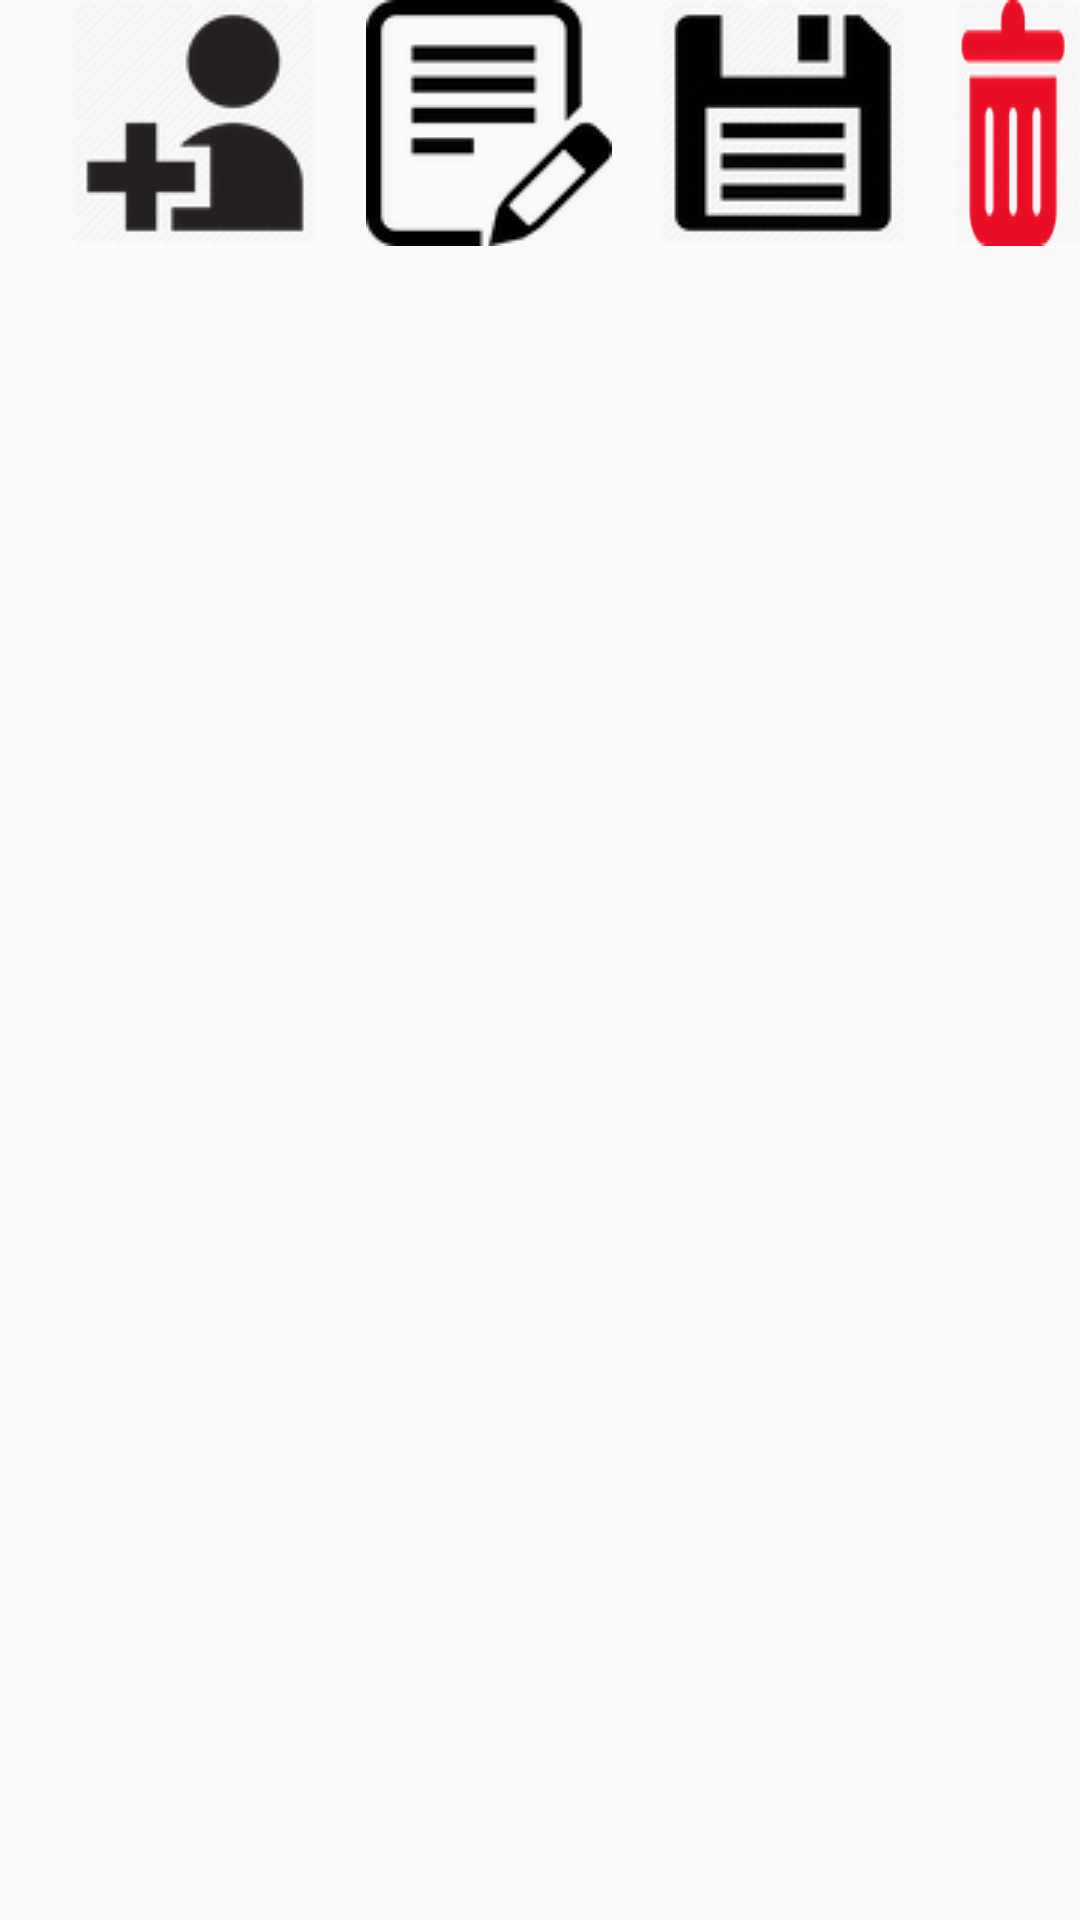

Icon click points for this 1080 × 1920 phone screenshot, format (x=x, y=y):
addpersonicon: (x=195, y=123)
deletepersonicon: (x=1013, y=123)
editpersonicon: (x=489, y=123)
savebuttonicon: (x=783, y=123)
